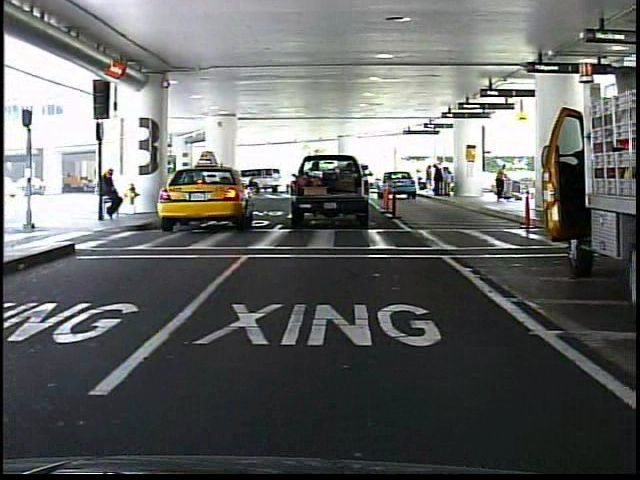person: (100, 163, 127, 225), (493, 159, 513, 207)
